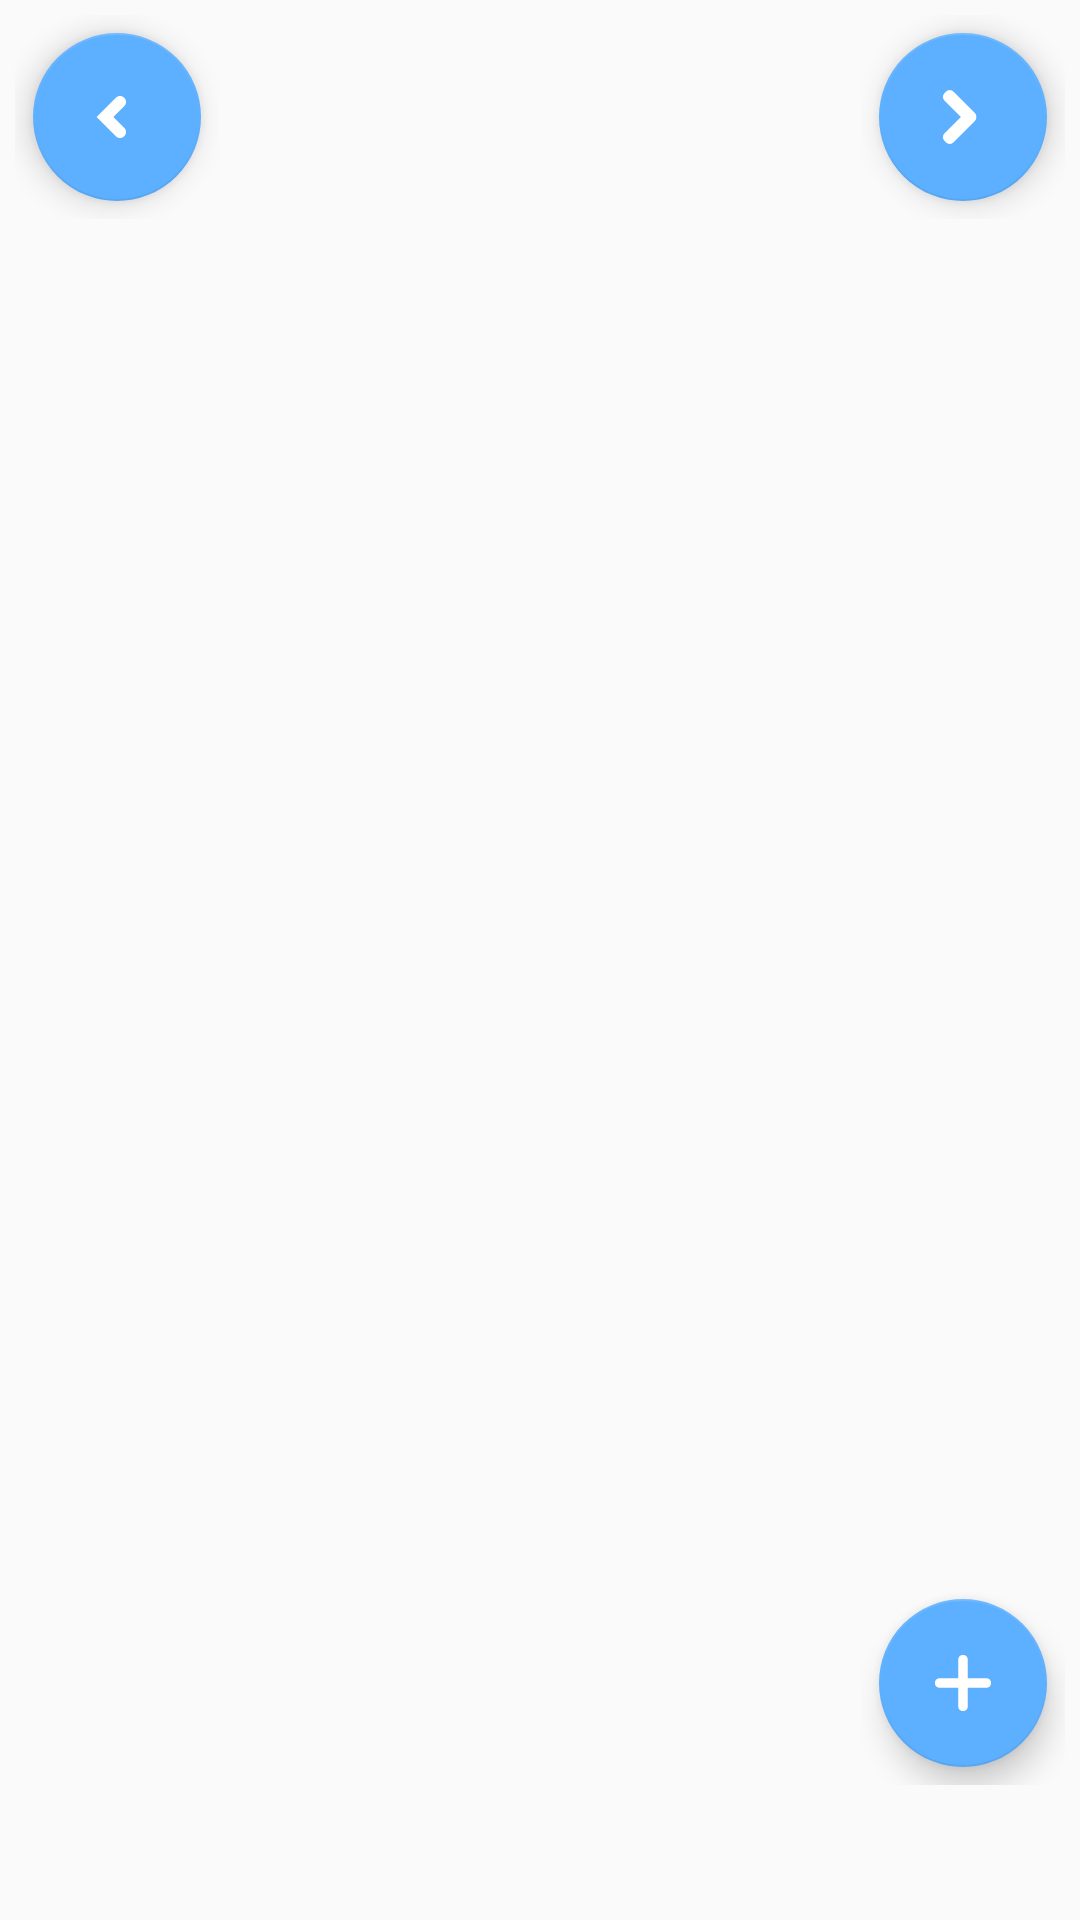

Named icons in this screenshot (1080w x 1920h) and their bounding boxes, (x1, y1, x2, y2):
Adicionar: (879, 1599, 1047, 1767)
Próximo: (879, 33, 1047, 201)
Voltar: (33, 33, 201, 201)
